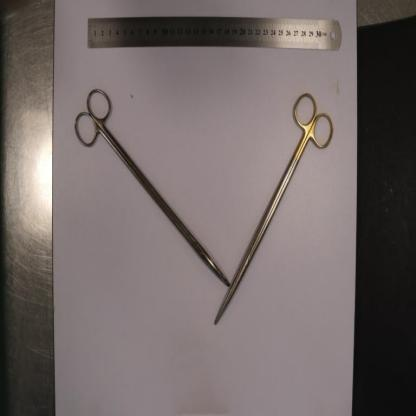7 Metzenbaum Scissors: (215, 92, 334, 326)
9 Metzenbaum Scissors: (74, 85, 230, 286)
